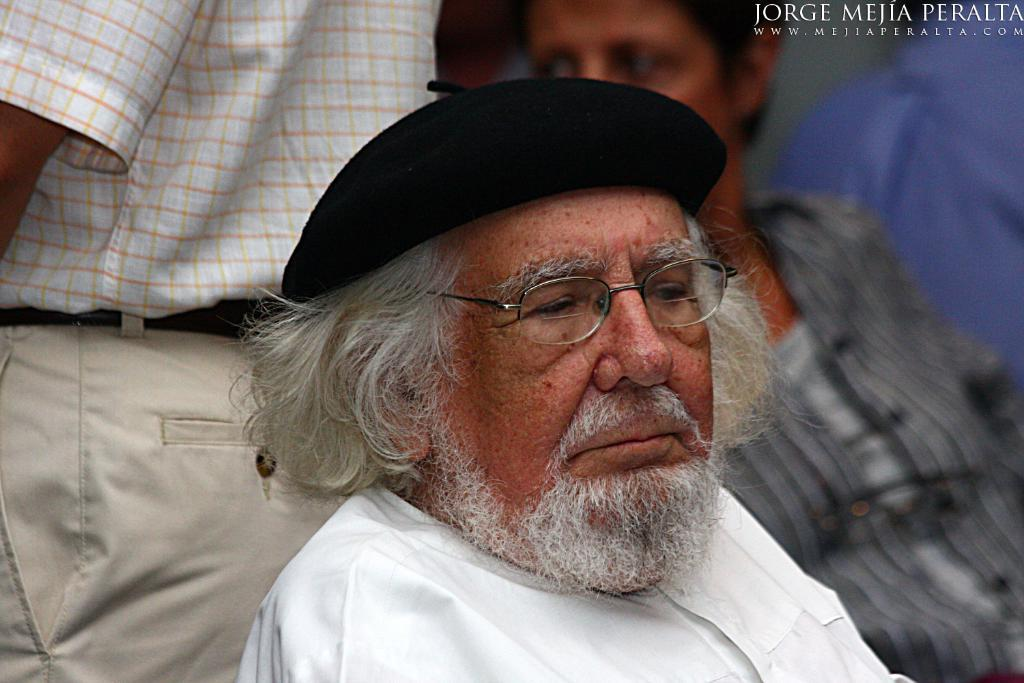Hat: (278, 80, 730, 303)
